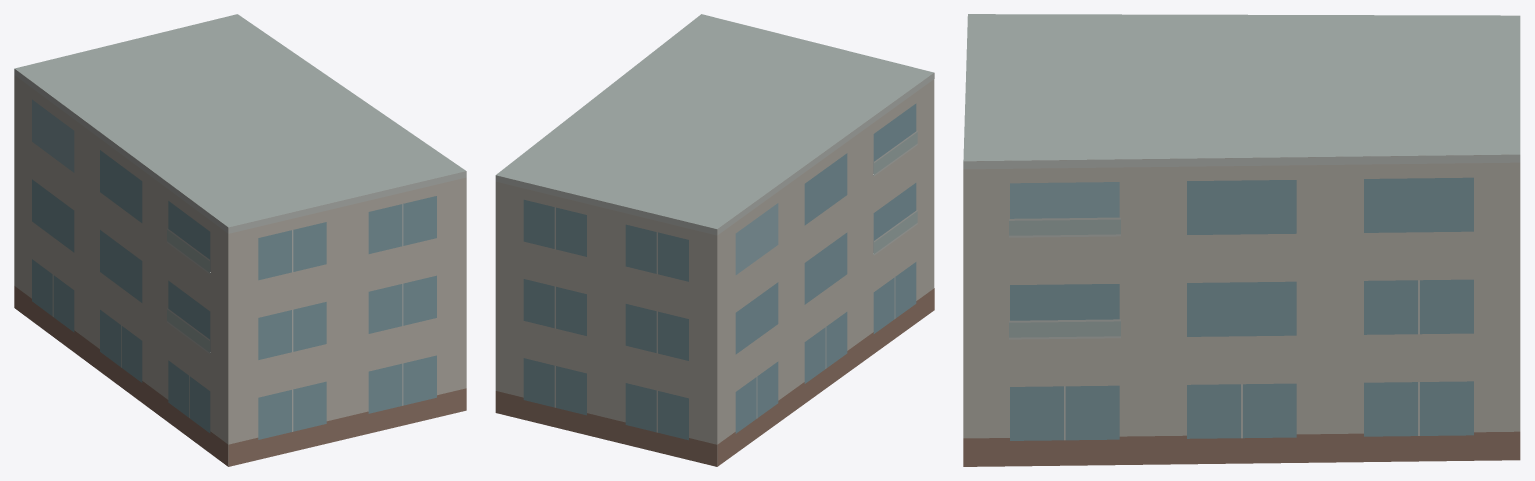
Rendered from survey-upis-32489800.glb.
The picture shows the model from 3 angles, left to right: view 1: azimuth 30°, elevation 25°; view 2: azimuth 150°, elevation 25°; view 3: azimuth 270°, elevation 25°; orthographic projection. The views are drawn at different scales.
Parts seen in each view (by area): view 1: survey-upis-32489800.tmp; view 2: survey-upis-32489800.tmp; view 3: survey-upis-32489800.tmp.
Part boxes in pixels (<box>): survey-upis-32489800.tmp: <box>14,14,466,466</box>; survey-upis-32489800.tmp: <box>495,14,934,466</box>; survey-upis-32489800.tmp: <box>963,14,1520,466</box>.
Size of the model in its own units: 9.49 by 9.15 by 15.13.
